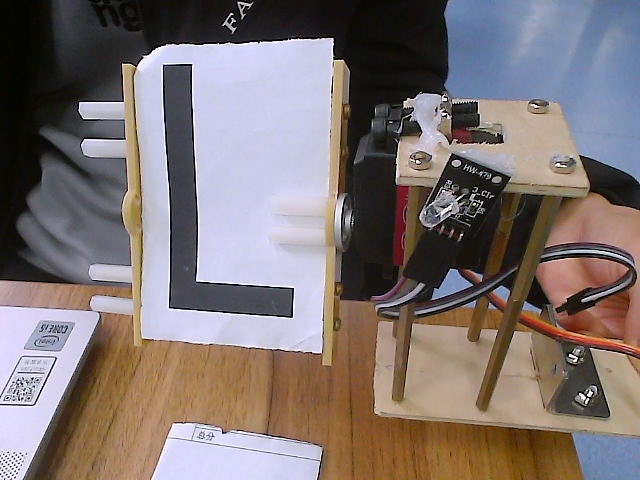L: (54, 25, 399, 383)
